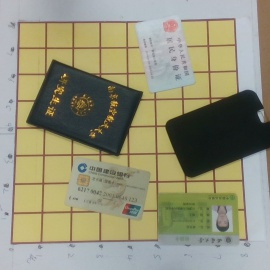card: (66, 156, 151, 221), (135, 13, 197, 92), (154, 191, 240, 247)
wallet: (26, 53, 143, 159), (163, 88, 270, 177)
